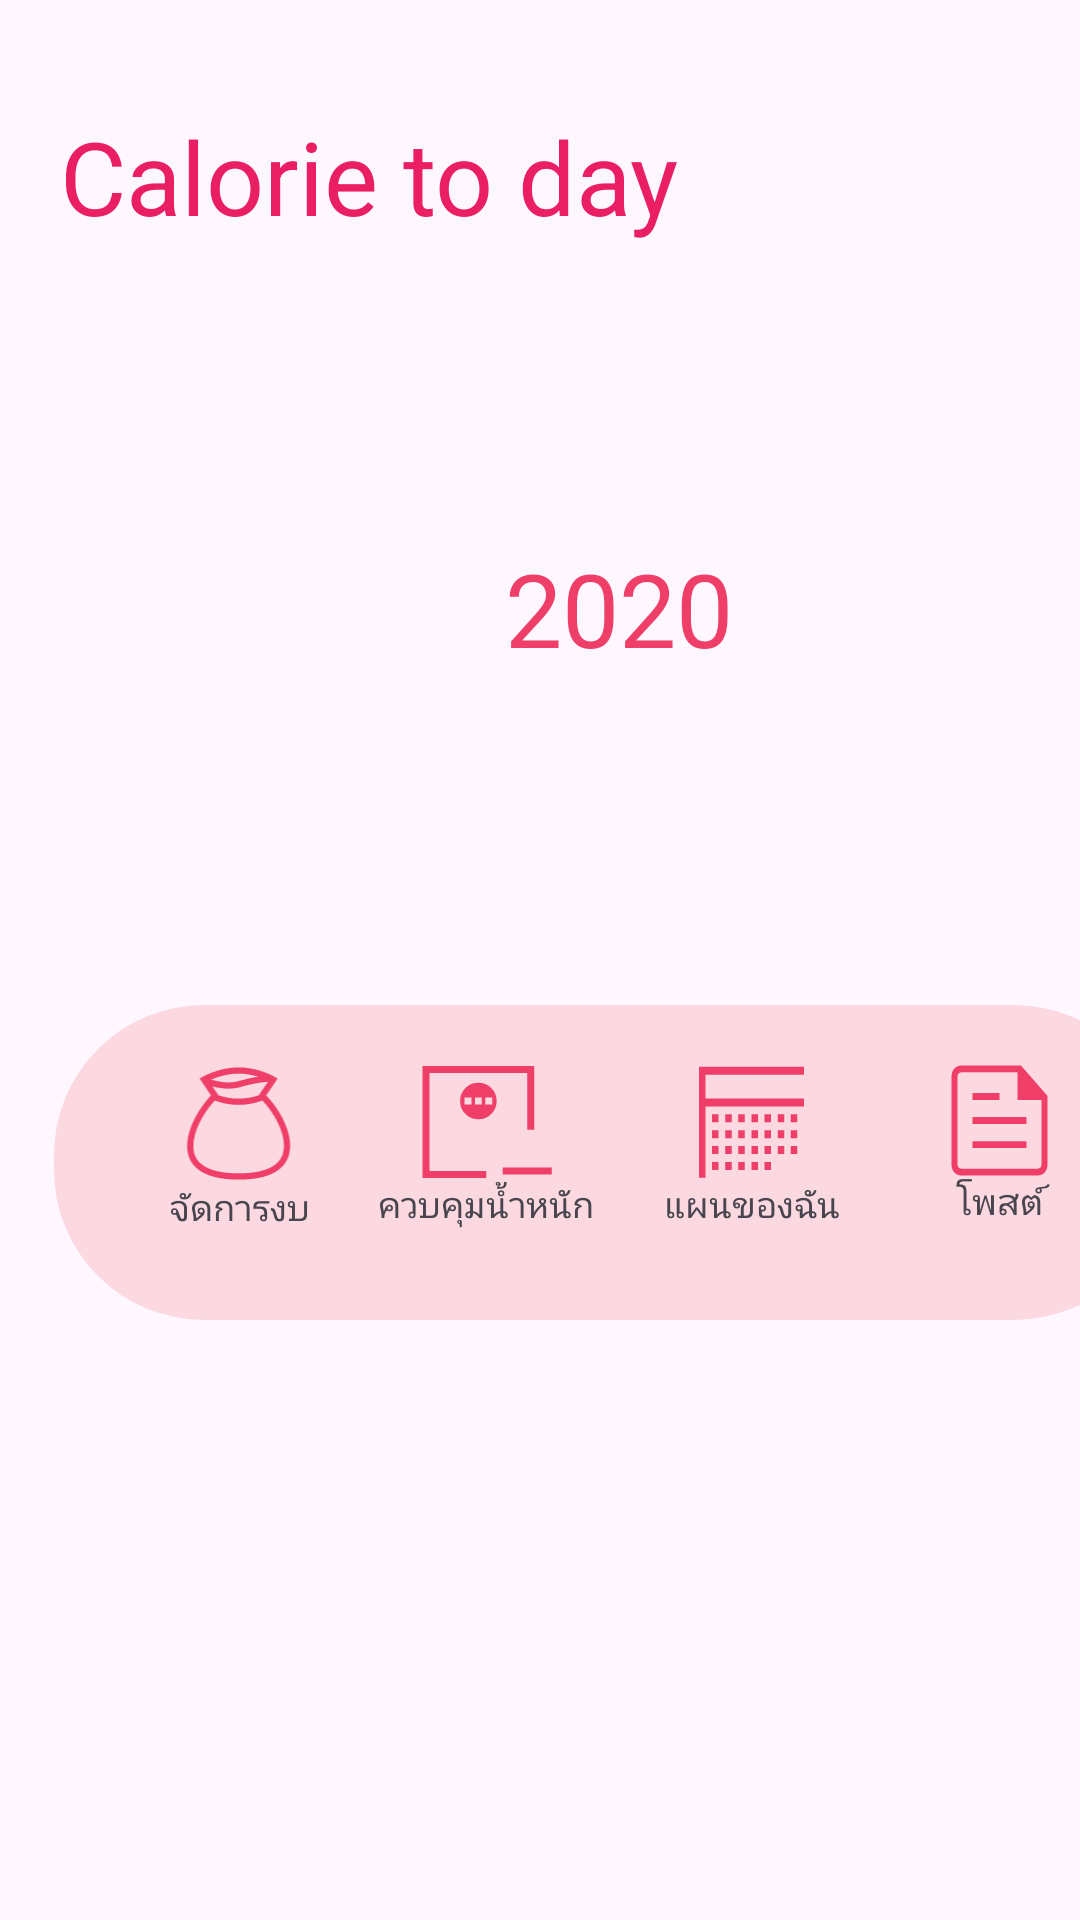

Locate icon controls on the screen. Image size 1080 × 1920, boxes as (x1=x1, y1=y1, x2=x2, y2=y2).
save money: (x1=187, y1=1067, x2=291, y2=1180)
